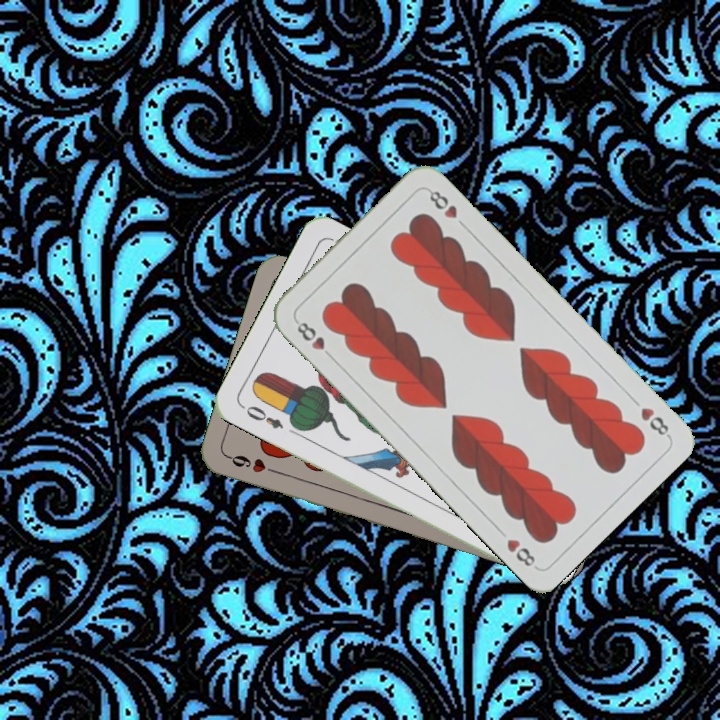EO: (237, 400, 286, 432)
H8: (291, 316, 337, 362), (637, 403, 673, 440)
H9: (223, 451, 281, 476)
